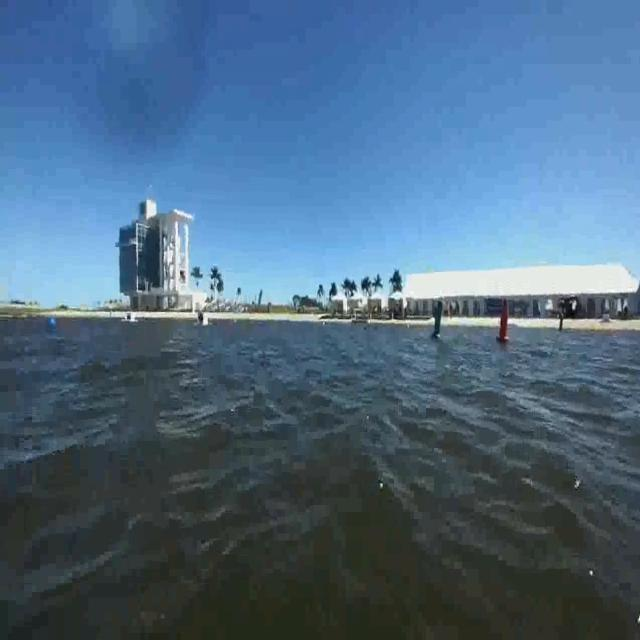blue-buoy: (47, 311, 58, 329)
green-column-buoy: (430, 294, 446, 340)
red-column-buoy: (494, 296, 516, 350)
